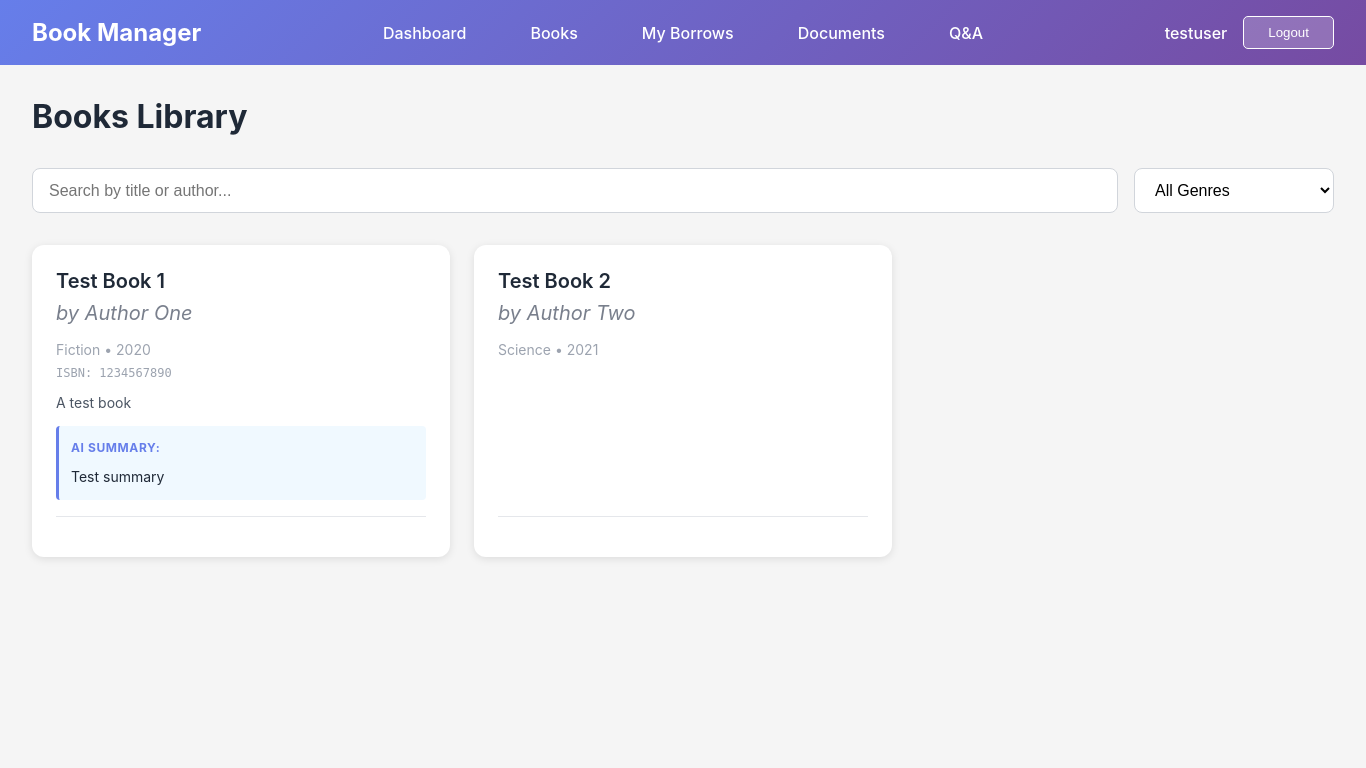
Test case: Books Component › Search and filter functionality › should filter books by title
The width and height of the screenshot is (1366, 768).
Check: the link "Test Book 1" is shown, box [56, 269, 165, 293]
Type "Book 1" into the field with placeholder "Search by title or author..." at [575, 190], box [32, 168, 1118, 213]
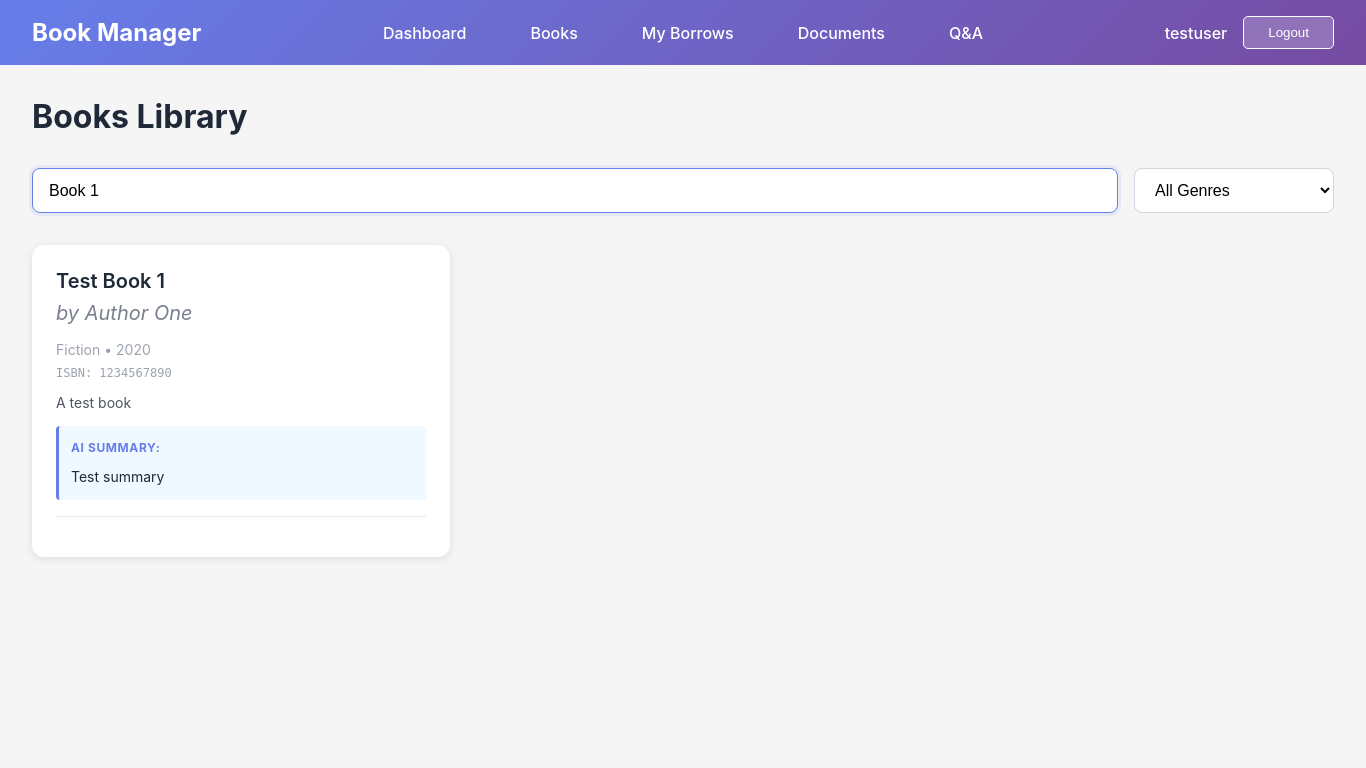
Check: the link "Test Book 1" is shown, box [56, 269, 165, 293]
Check: the link "Test Book 2" is gone
